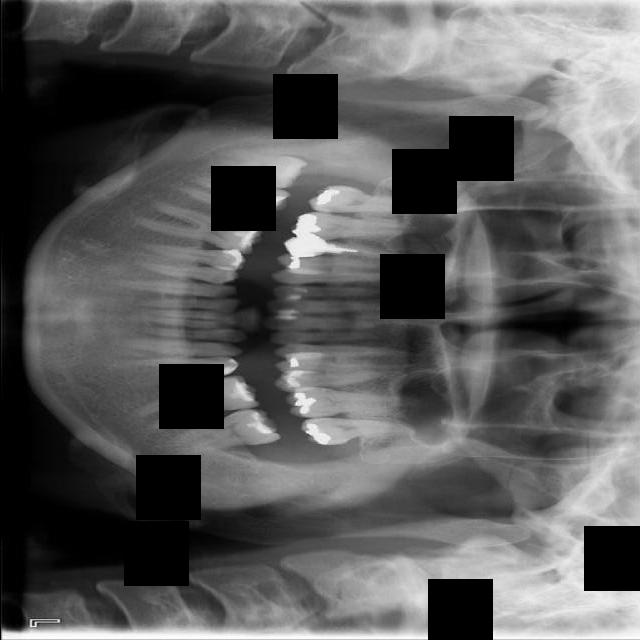52: (224, 394, 285, 457), (202, 371, 260, 418), (231, 182, 290, 227), (211, 214, 266, 258), (298, 414, 352, 448), (290, 211, 347, 241), (307, 185, 365, 214), (285, 386, 335, 419), (273, 367, 323, 395), (279, 235, 333, 260), (274, 252, 327, 277), (272, 351, 325, 375), (209, 246, 247, 273), (260, 313, 308, 333), (263, 297, 307, 315), (197, 356, 238, 375), (271, 285, 311, 300)
73: (329, 240, 420, 263)
BioHorizons Implant: (299, 414, 440, 446)
Blue Sky Bio Implant: (165, 404, 281, 458)
Caries: (305, 184, 430, 216)
Implant: (174, 172, 291, 227)
Keystone Dental Implant: (208, 143, 309, 194)
